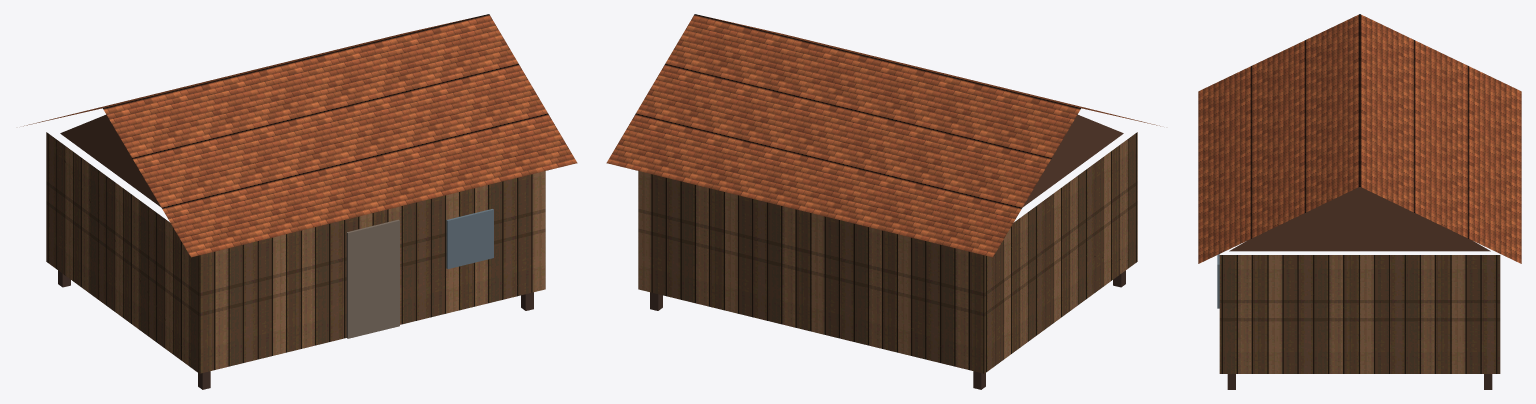
The model's file is casa_madeira_1967.glb.
The picture shows the model from 3 angles, left to right: view 1: azimuth 30°, elevation 25°; view 2: azimuth 150°, elevation 25°; view 3: azimuth 270°, elevation 25°; orthographic projection. The views are drawn at different scales.
Parts seen in each view (by area): view 1: Malha_0; view 2: Malha_0; view 3: Malha_0.
Part boxes in pixels (box(x1,y1,x2,y2)): Malha_0: box(23, 14, 577, 389); Malha_0: box(606, 14, 1160, 389); Malha_0: box(1198, 14, 1521, 389).
Size of the model in its own units: 6.7 by 3.9 by 5.3.
4 materials, 2 textured.
